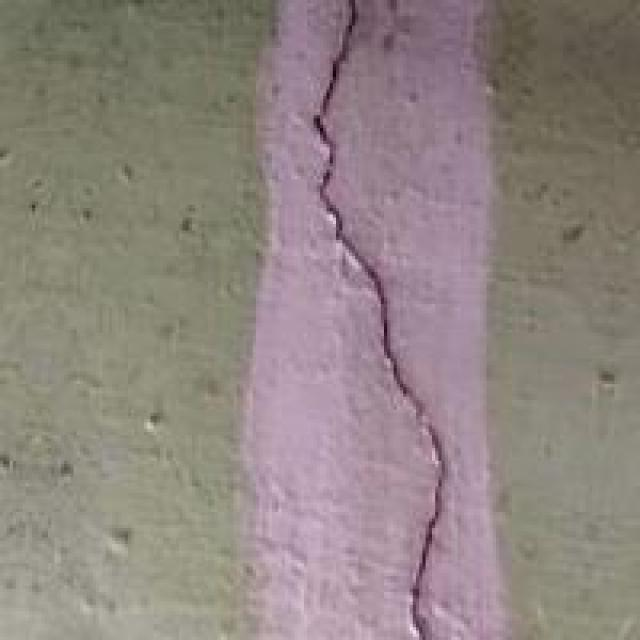crack: (250, 0, 464, 637)
